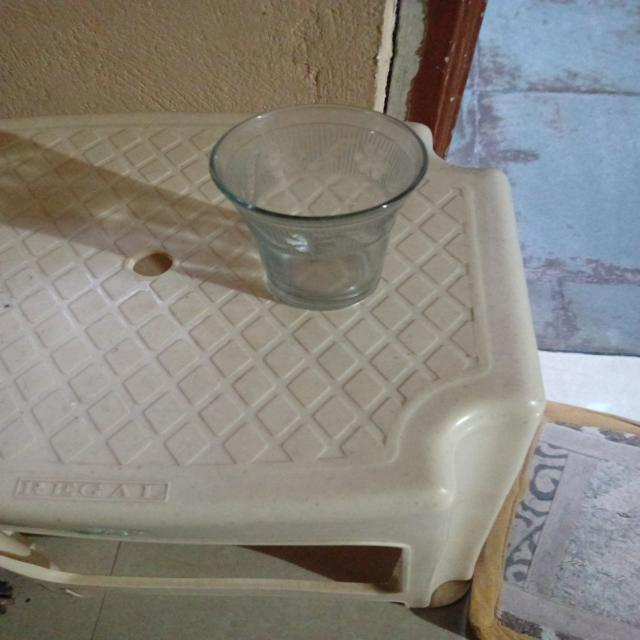Glass: (203, 100, 431, 314)
